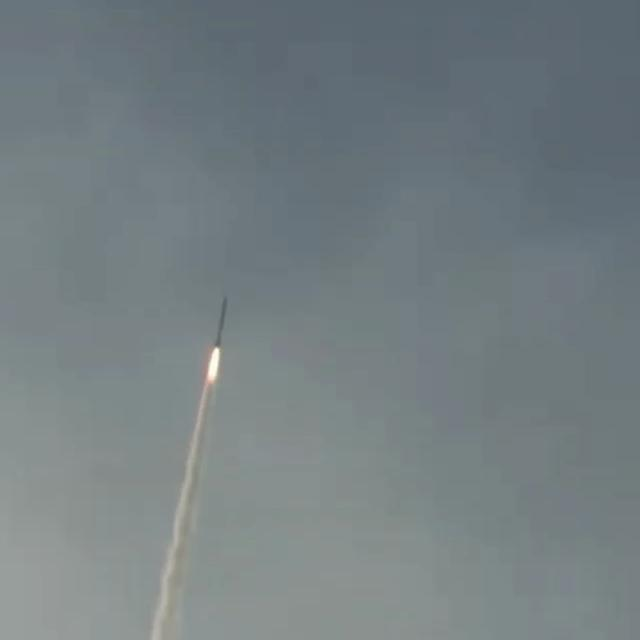smoke_trail_with_rocket: (149, 297, 229, 640)
